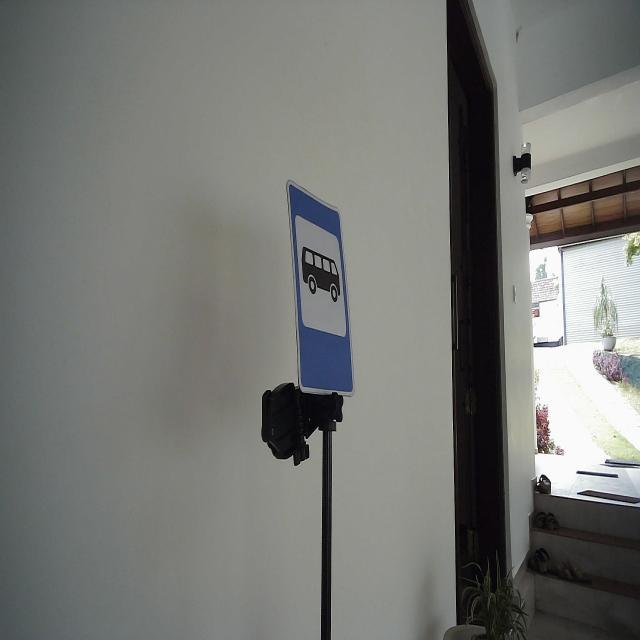bus_stop: (283, 175, 356, 397)
